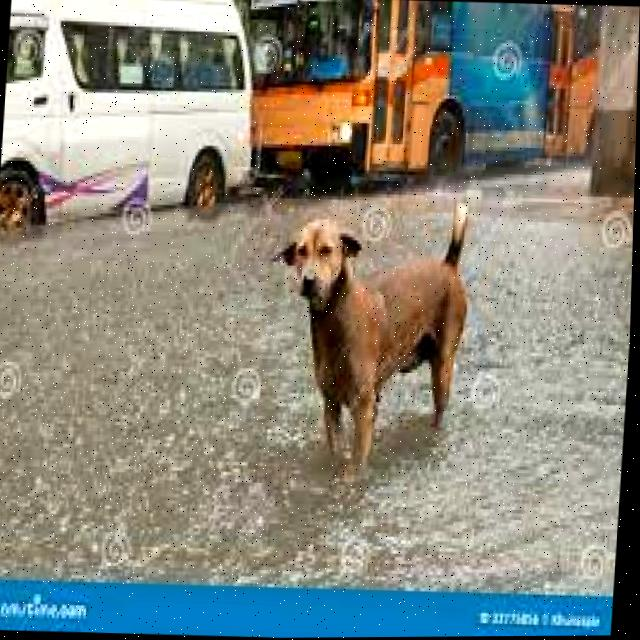dog: (255, 189, 495, 480)
